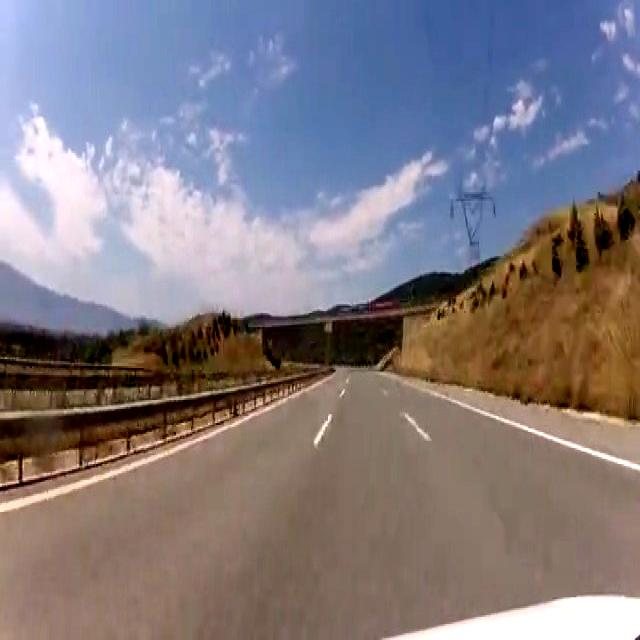lane: (1, 418, 245, 512), (425, 390, 640, 470), (401, 414, 431, 441), (314, 413, 332, 448)
road: (2, 368, 639, 637)
